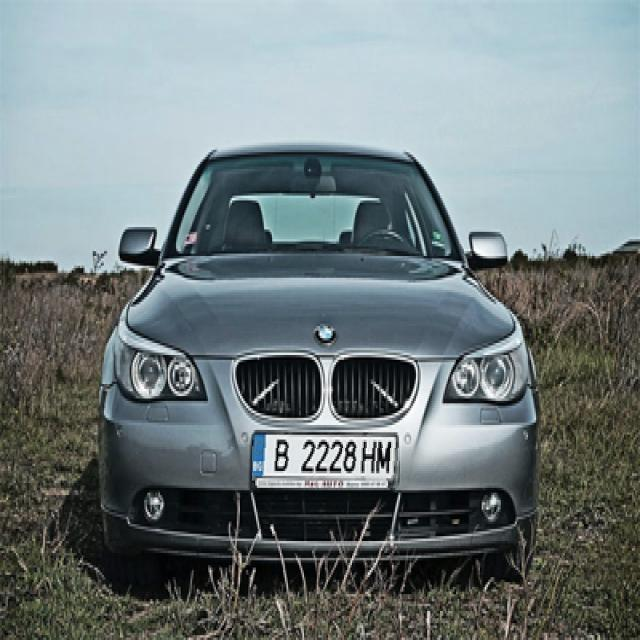licence: (252, 427, 402, 488)
